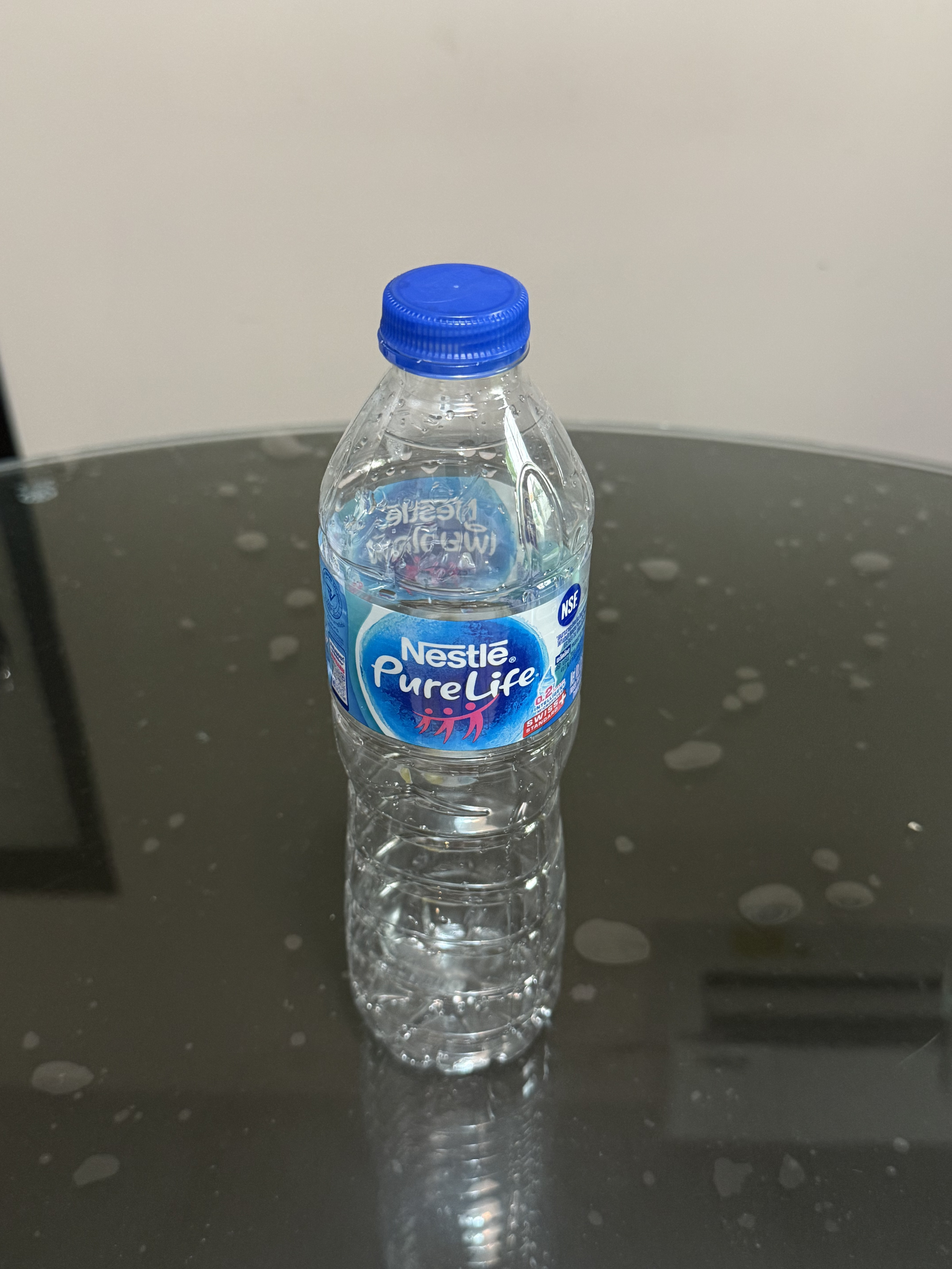closed_cap: (375, 259, 532, 377)
